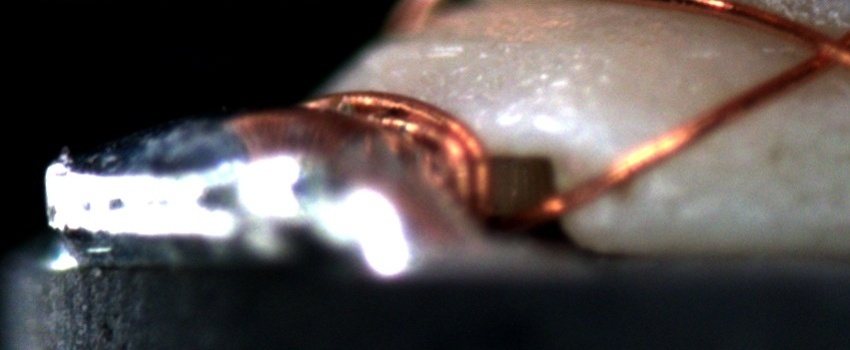CL: (800, 16, 847, 77)
TE: (293, 84, 494, 229)
